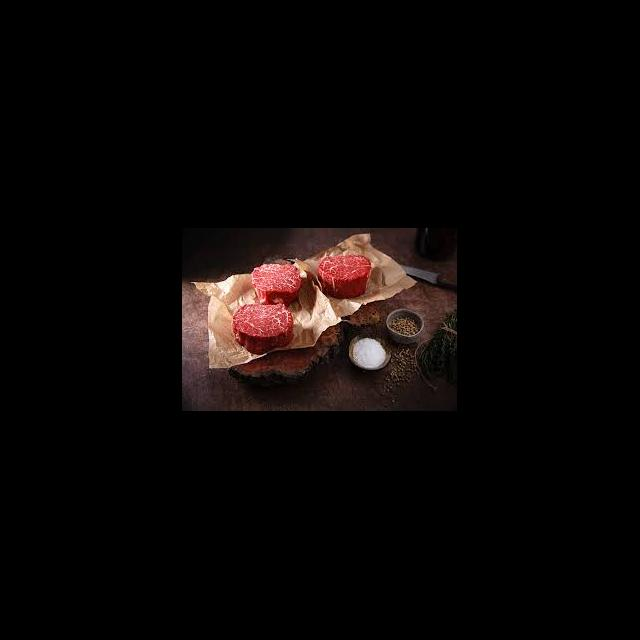beef: (232, 305, 294, 351), (320, 254, 371, 298), (253, 265, 304, 304)
